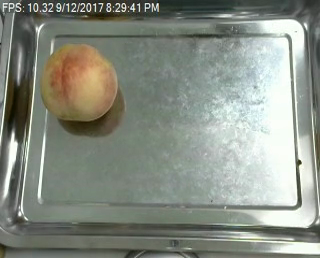Peach: (40, 42, 119, 122)
